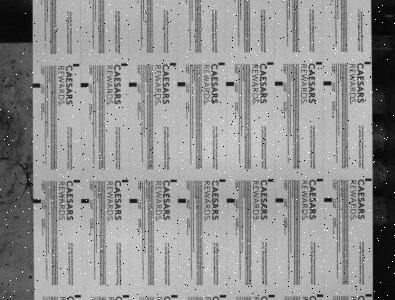qblock: (129, 198, 138, 203), (275, 197, 284, 202), (129, 82, 137, 87), (80, 82, 88, 87), (226, 81, 234, 86), (81, 198, 89, 203), (324, 197, 332, 202), (177, 82, 186, 86), (33, 83, 40, 88), (323, 81, 331, 85), (275, 81, 283, 85), (178, 198, 186, 202), (227, 198, 235, 202), (33, 199, 40, 203)
smallqblock: (171, 294, 178, 298), (170, 62, 176, 66), (171, 178, 177, 182), (366, 177, 372, 181), (73, 64, 80, 67), (267, 62, 274, 65), (268, 178, 275, 181), (364, 61, 371, 64), (316, 178, 323, 181), (219, 178, 226, 181), (74, 294, 81, 297), (268, 294, 275, 297), (220, 294, 227, 297), (317, 294, 324, 297), (121, 63, 128, 66), (219, 62, 225, 65), (74, 179, 80, 182), (122, 179, 128, 182), (123, 294, 129, 297), (366, 293, 372, 296), (316, 62, 322, 64)
